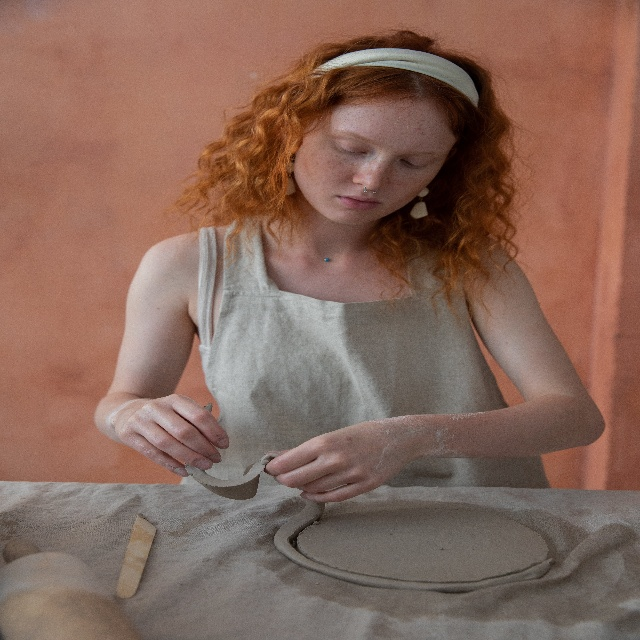Sin_guantes: (266, 416, 415, 503), (118, 393, 229, 482)
